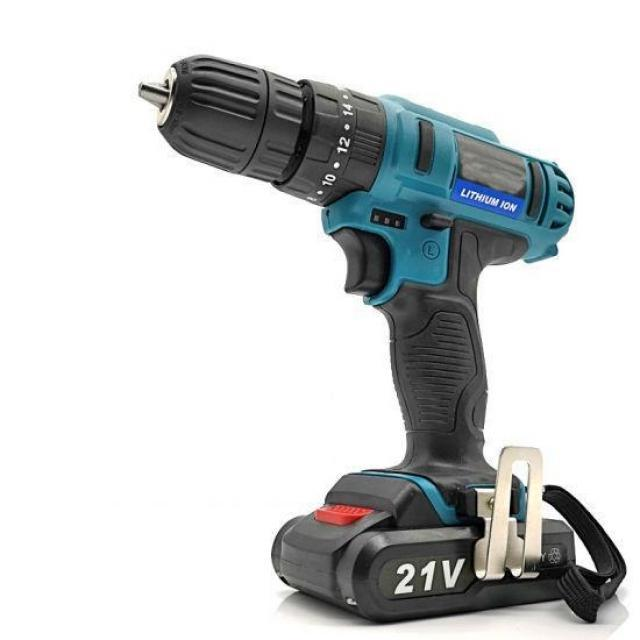drill: (136, 54, 576, 624)
